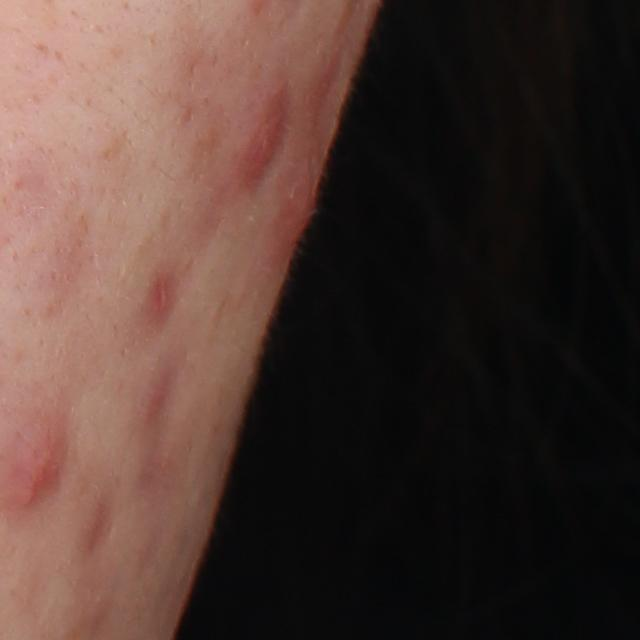atrophic_scar: (146, 365, 192, 478), (87, 494, 122, 562)
papule: (229, 74, 293, 192), (281, 168, 326, 241), (144, 273, 175, 318)
